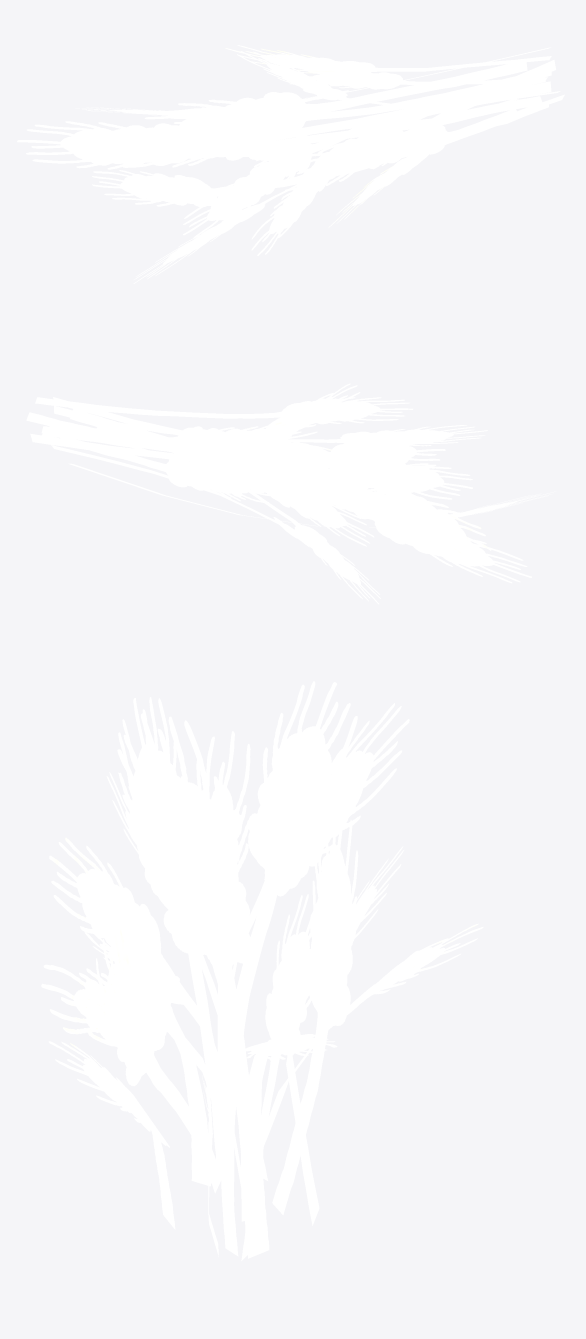
3 views of the same model, one above another, from view 1: azimuth 30°, elevation 25°; view 2: azimuth 150°, elevation 25°; view 3: azimuth 270°, elevation 25° (orthographic). The views are drawn at different scales.
Visible parts, largest first — view 1: SM_Wheat_Drop_01_LOD0; view 2: SM_Wheat_Drop_01_LOD0; view 3: SM_Wheat_Drop_01_LOD0.
Boxes of the visible parts, x1,y1,x2,y2 form: SM_Wheat_Drop_01_LOD0: [17, 45, 564, 283]; SM_Wheat_Drop_01_LOD0: [26, 383, 555, 604]; SM_Wheat_Drop_01_LOD0: [41, 681, 483, 1260].
Bounding box in the file's own units: 1.29 × 0.6062 × 0.6518.
1 material, 1 textured.
